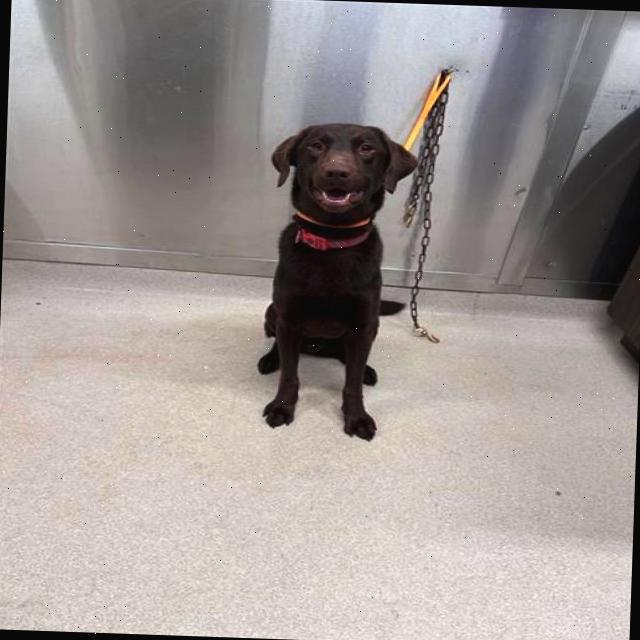labrador_retriever_dog: (262, 113, 420, 233)
